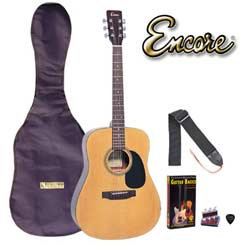guitar: (69, 9, 161, 241)
